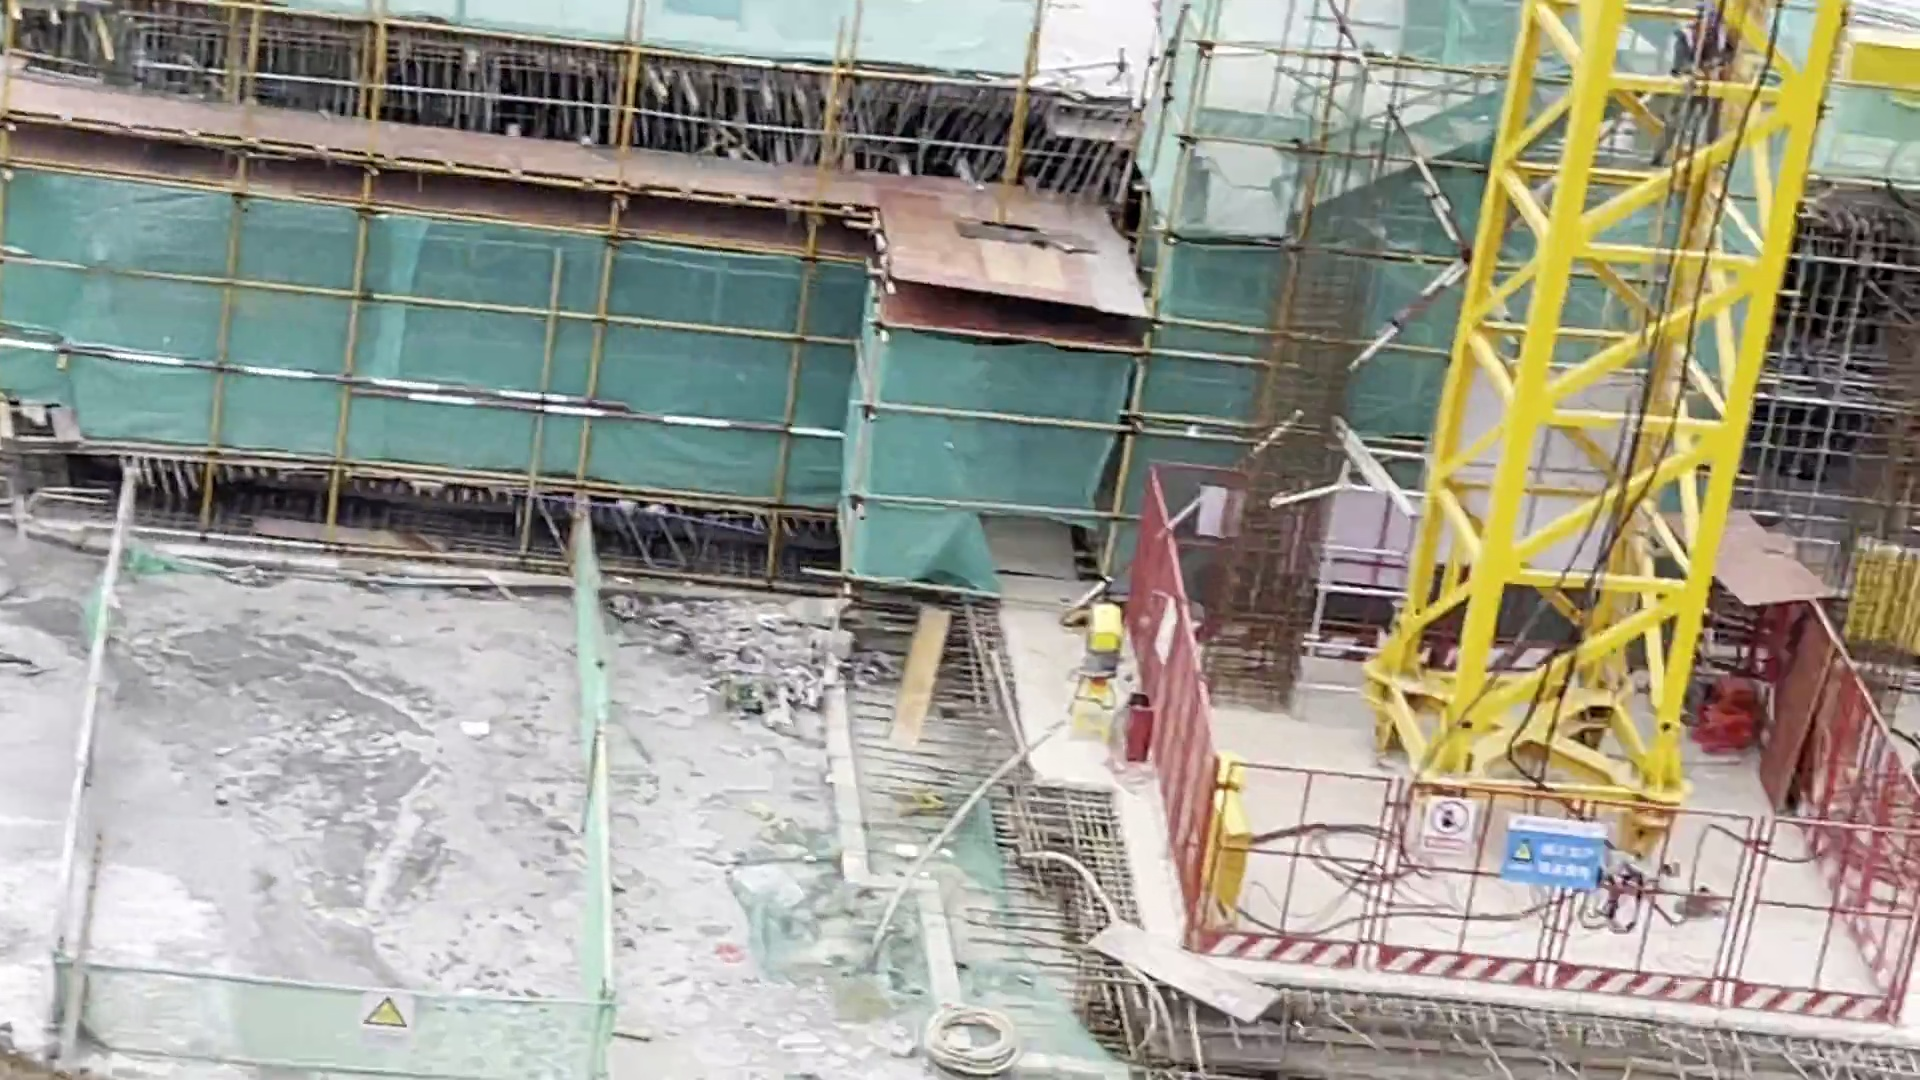ebox: (1840, 36, 1919, 169), (1851, 545, 1920, 643), (1208, 747, 1240, 933), (1083, 607, 1120, 706)
fence: (1554, 794, 1918, 1028), (1811, 657, 1920, 984), (1380, 776, 1544, 991), (1216, 762, 1364, 976), (1154, 675, 1210, 924), (1139, 476, 1187, 679)
person: (1656, 5, 1731, 163)
slogan: (1497, 814, 1602, 897), (359, 990, 414, 1041), (1421, 796, 1473, 849)
